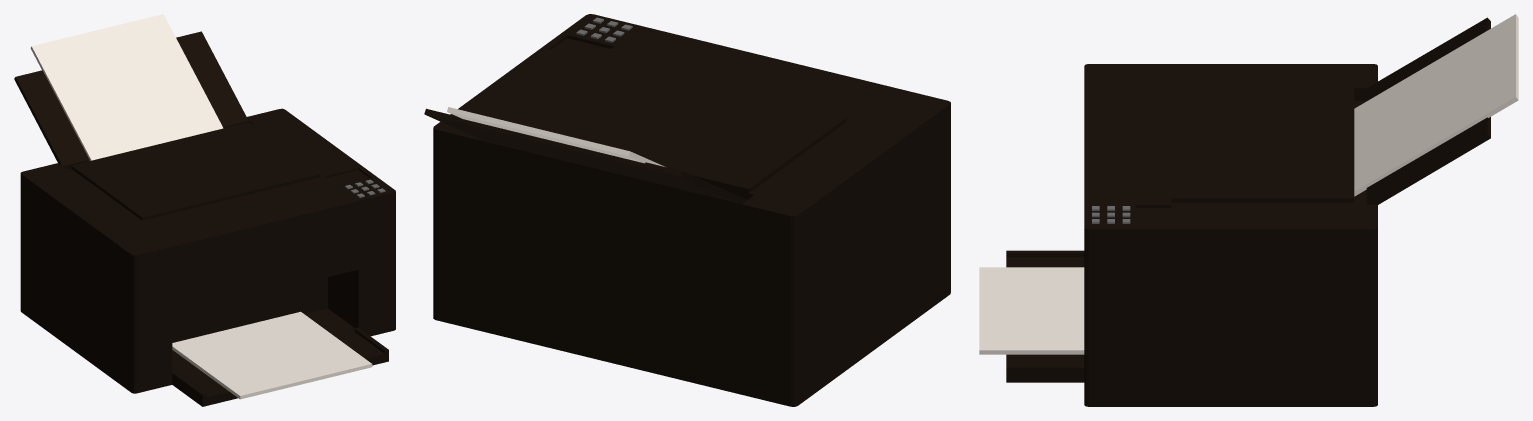
The model's file is printer.fbx.
The picture shows the model from 3 angles, left to right: view 1: azimuth 30°, elevation 25°; view 2: azimuth 150°, elevation 25°; view 3: azimuth 270°, elevation 25°; orthographic projection. The views are drawn at different scales.
Visible parts, largest first — view 1: Printer_01; view 2: Printer_01; view 3: Printer_01.
Part boxes in pixels (x1,y1,x2,y2): Printer_01: [14, 14, 395, 406]; Printer_01: [424, 14, 950, 406]; Printer_01: [979, 14, 1518, 406].
Bounding box in the file's own units: 46.62 × 35.29 × 64.14.
